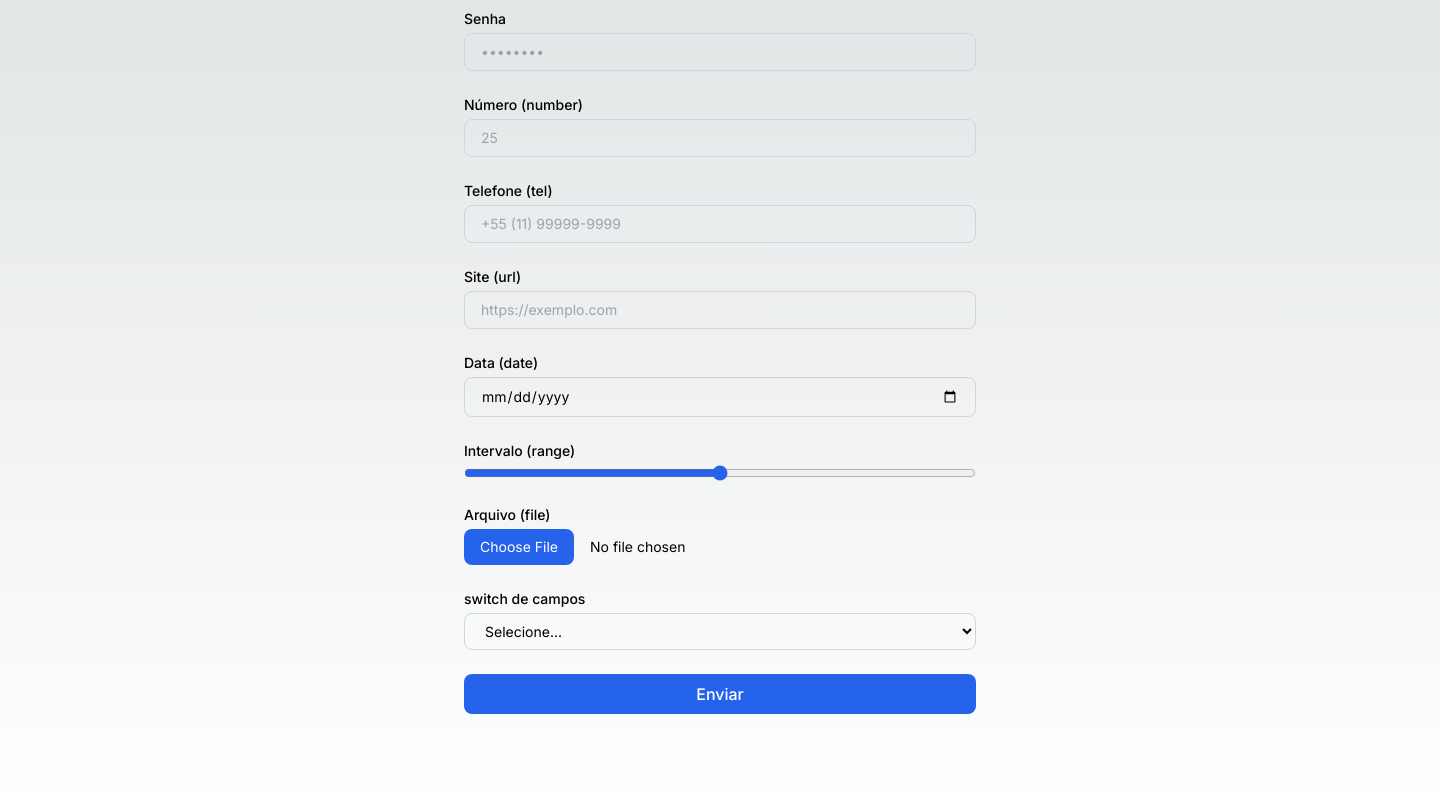
Test: ContactPage › renderização condicional pelo SelectField › exibe o fieldset de checkbox ao selecionar campo-2
(page scrolled)
Select "campo-2" in the dropdown at (720, 632), box [464,613,976,650]
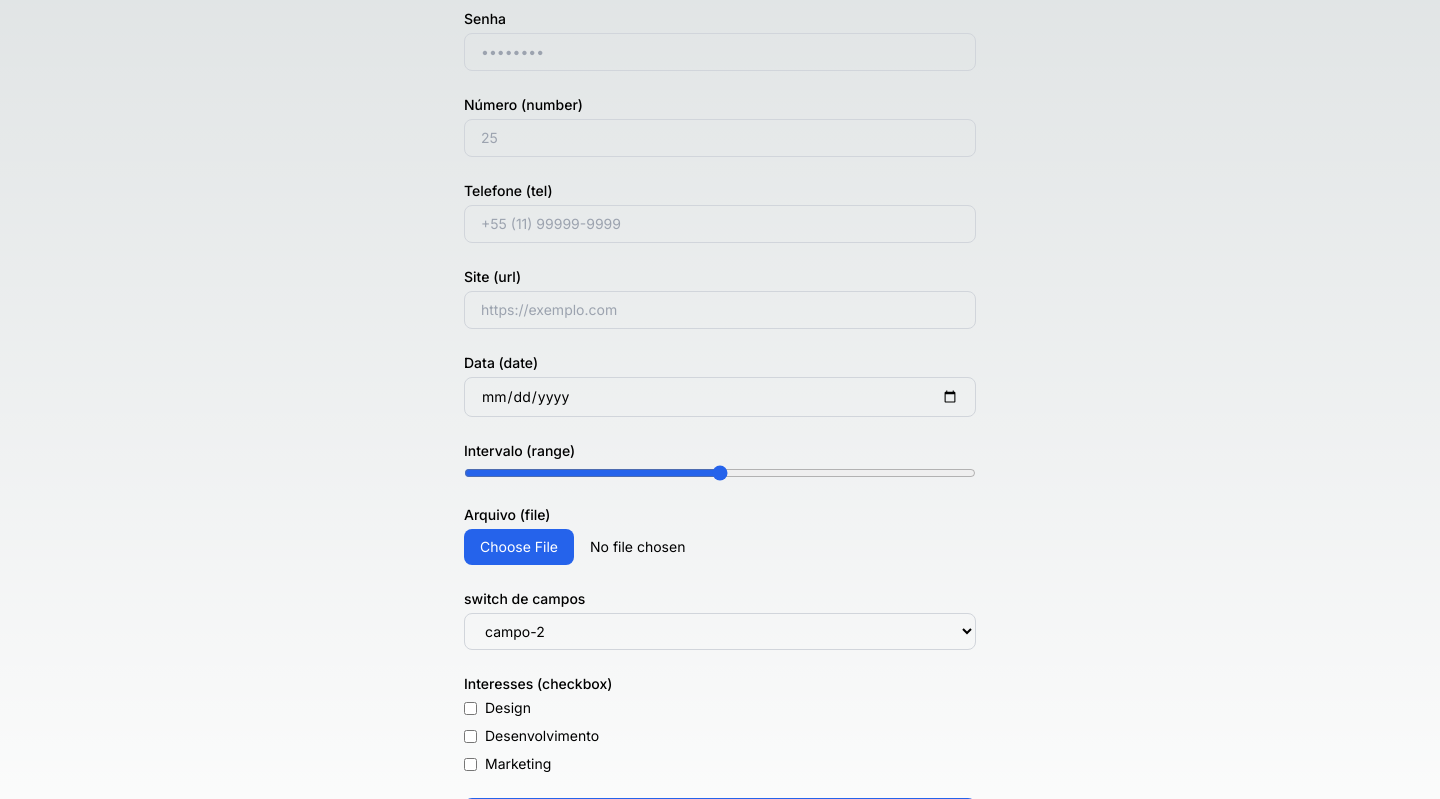
Expected: the text "Interesses (checkbox)" is shown, [464,674,612,694]
